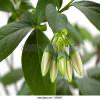Blueberry leaf: (21, 26, 57, 96), (0, 19, 34, 62), (45, 2, 69, 35)
